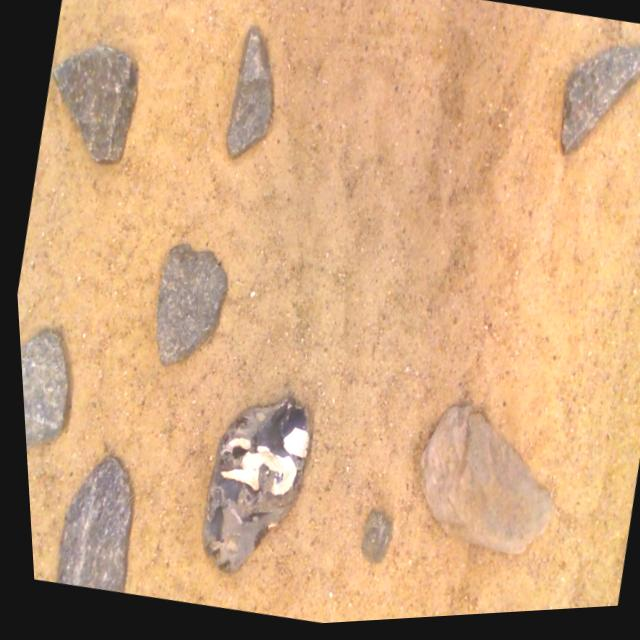rock: (414, 410, 545, 559), (195, 402, 303, 575), (48, 458, 124, 594), (52, 47, 136, 164), (558, 54, 640, 160), (151, 246, 223, 366), (224, 30, 270, 159), (16, 330, 62, 446), (353, 514, 385, 567)
